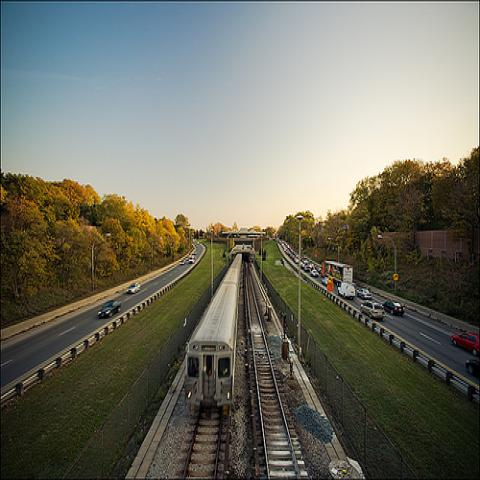car: (181, 272, 479, 389), (451, 332, 479, 357), (360, 300, 386, 321), (382, 298, 406, 315), (98, 300, 122, 317), (336, 284, 357, 298), (125, 281, 142, 295), (356, 288, 373, 301), (301, 261, 312, 271), (188, 255, 195, 263), (310, 270, 318, 276), (294, 255, 299, 264), (180, 259, 186, 265), (290, 254, 296, 260)
truck: (320, 258, 354, 286), (338, 282, 356, 299)
